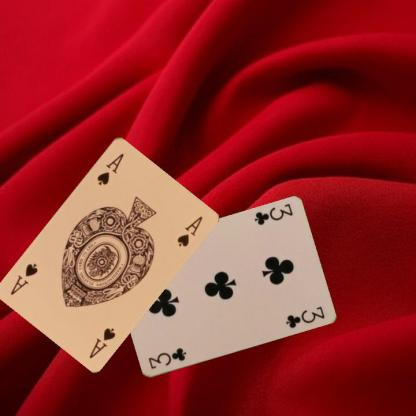3c: (251, 201, 294, 227), (146, 346, 188, 370)
As: (94, 150, 126, 186), (86, 325, 117, 359)
